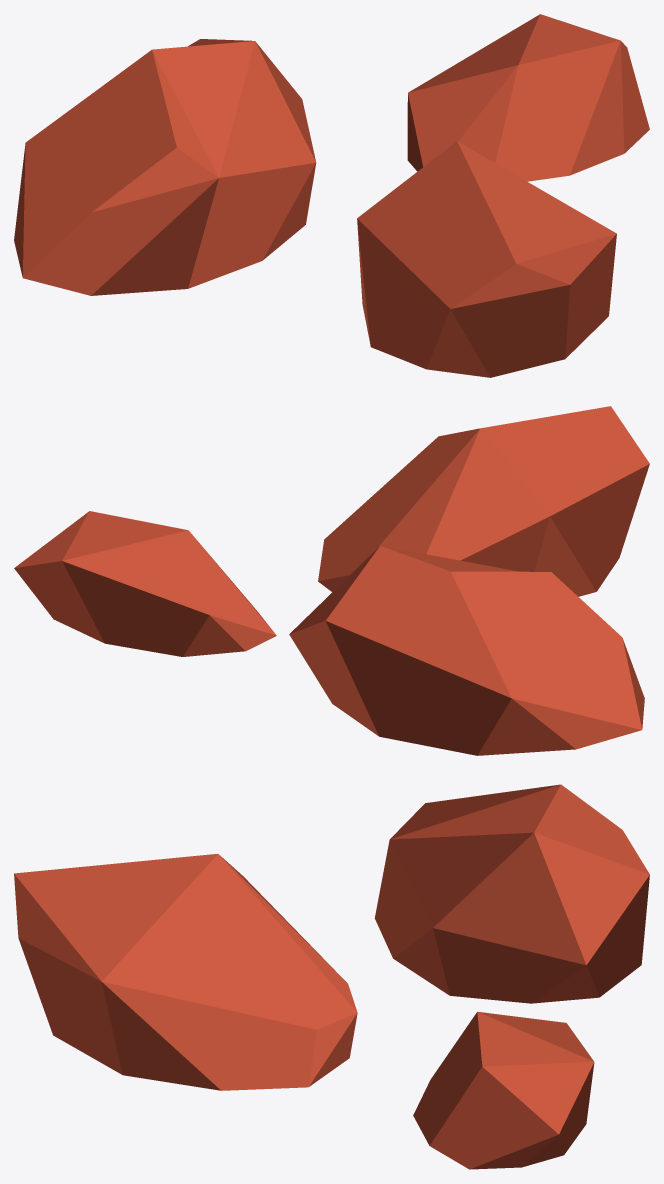
The model's file is Stones_2.fbx.
3 views of the same model, one above another, from view 1: azimuth 30°, elevation 25°; view 2: azimuth 150°, elevation 25°; view 3: azimuth 270°, elevation 25° (orthographic). The views are drawn at different scales.
Visible parts, largest first — view 1: Stones_2; view 2: Stones_2; view 3: Stones_2.
Part boxes in pixels (x1,y1,x2,y2): Stones_2: [14, 14, 649, 377]; Stones_2: [14, 406, 649, 755]; Stones_2: [14, 784, 649, 1169].
Bounding box in the file's own units: 34.81 × 8.7 × 29.33.
1 material, 1 textured.
